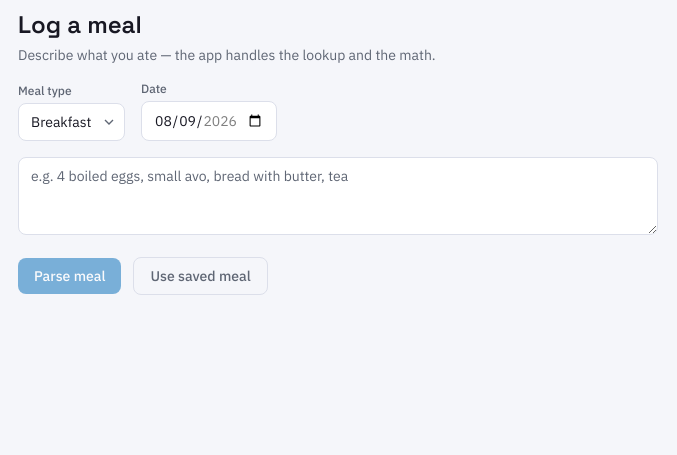
Scenario: happy path › shows calculated items and totals after parsing
In the text box: (338, 196) [18,157,658,235], type "150g oatmeal, 50g milk"
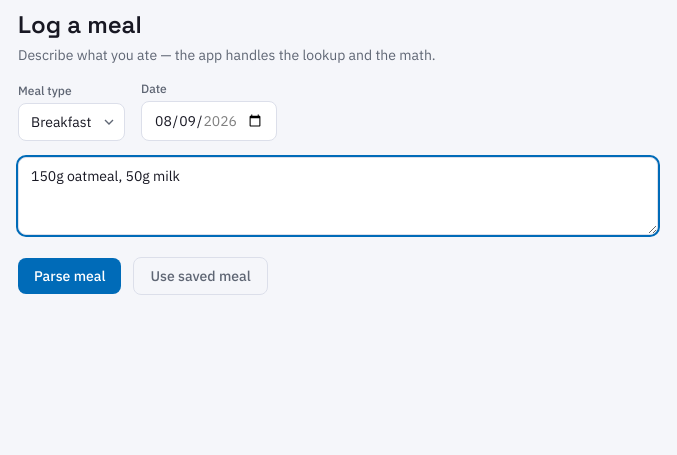
Click the button "Parse meal": (70, 276) [18,258,122,294]
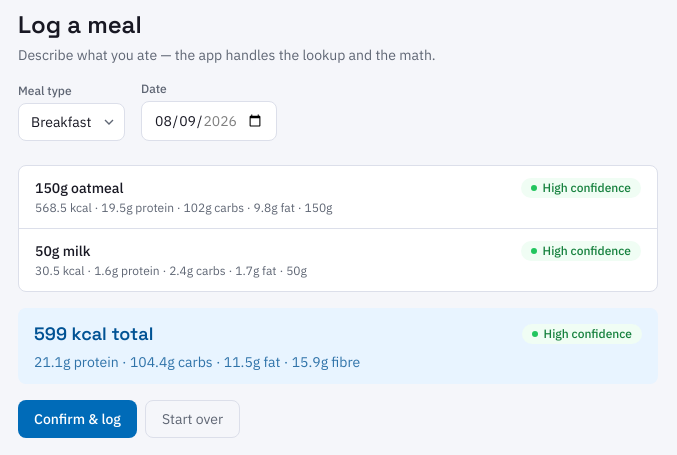
Now the button "Confirm & log" is shown, box [18,400,137,438]
Now the text "150g oatmeal" is shown, box [35,178,124,198]
Now the text "50g milk" is shown, box [35,241,90,261]
